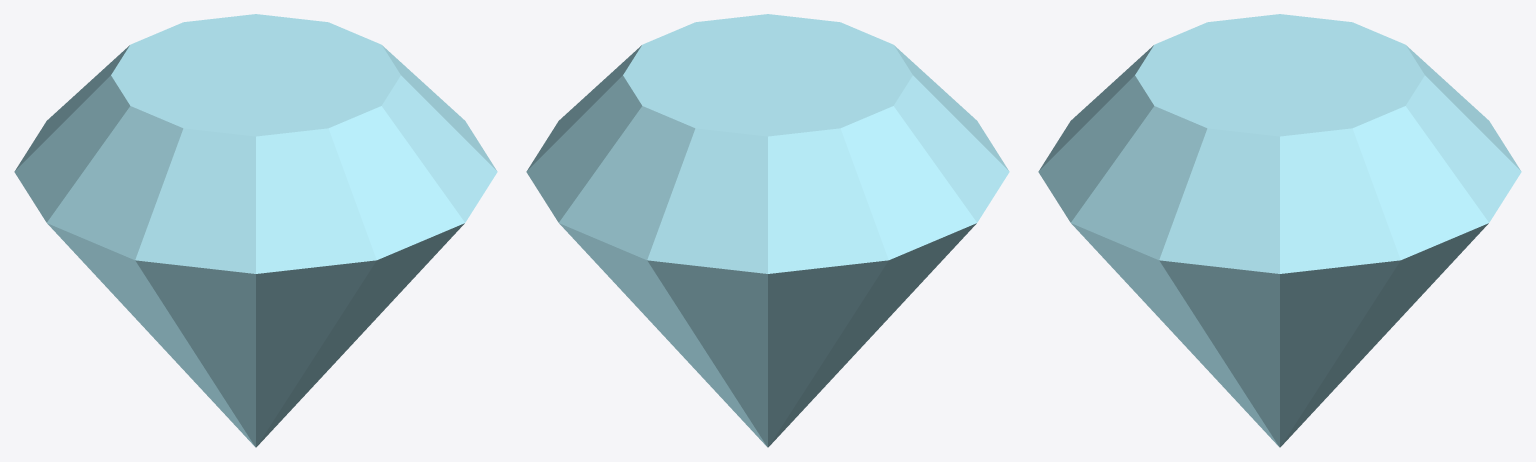
File: Diamante.fbx
The picture shows the model from 3 angles, left to right: view 1: azimuth 30°, elevation 25°; view 2: azimuth 150°, elevation 25°; view 3: azimuth 270°, elevation 25°; orthographic projection.
Parts seen in each view (by area): view 1: Diamond; view 2: Diamond; view 3: Diamond.
Part boxes in pixels (box(x1,y1,x2,y2)): Diamond: box(14, 14, 497, 447); Diamond: box(526, 14, 1009, 447); Diamond: box(1038, 14, 1521, 447).
Size of the model in its own units: 200 by 170 by 200.
